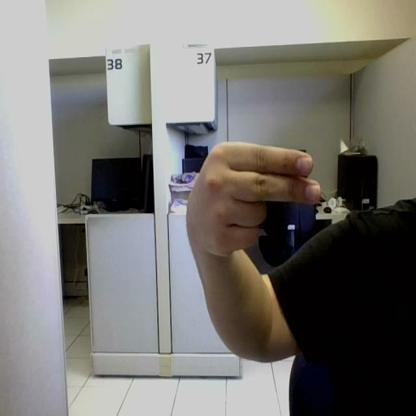H: (200, 142, 320, 256)
